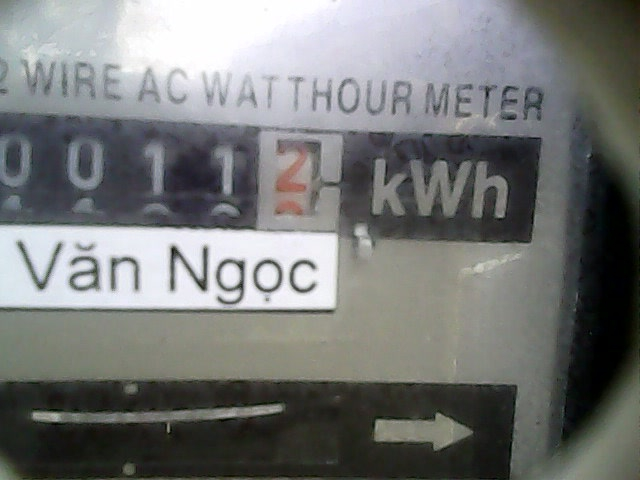phy_plate: (1, 110, 354, 243)
